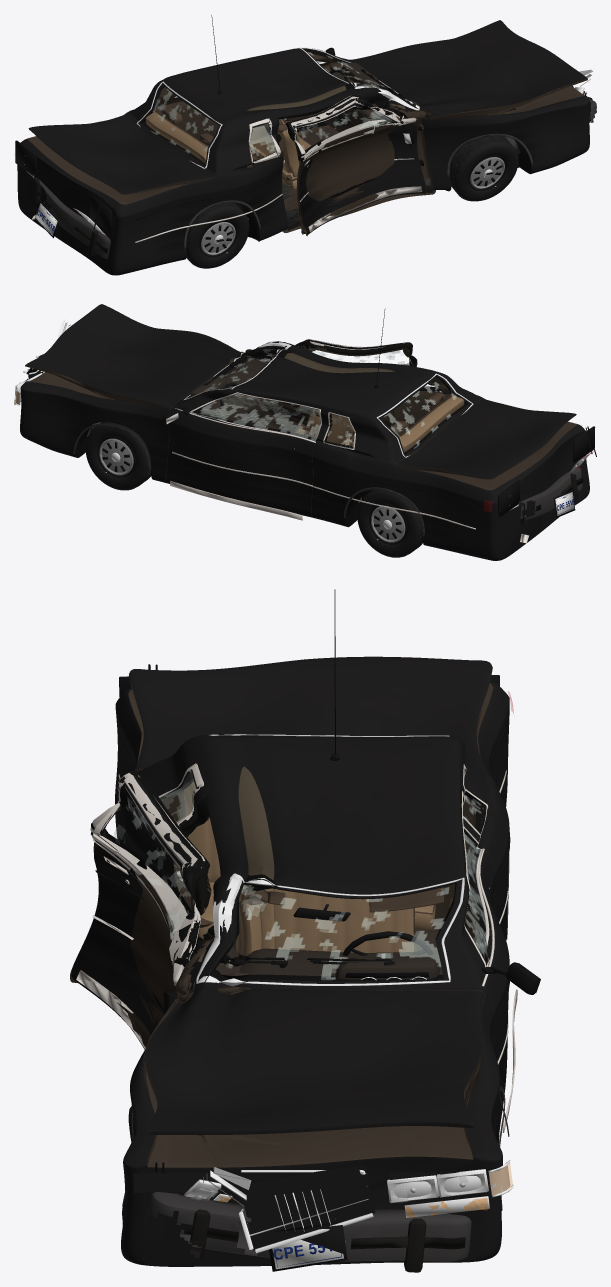
File: coupe84_side_R_d2_lod1.glb
The picture shows the model from 3 angles, top to bottom: view 1: azimuth 30°, elevation 25°; view 2: azimuth 150°, elevation 25°; view 3: azimuth 270°, elevation 25°; orthographic projection. The views are drawn at different scales.
Parts seen in each view (by area): view 1: Body, Hood, Door_FR, Trunk, Interior, Wheel_FR_mesh, Wheel_RR_mesh, Trim_FR, Glass, Trim, Ends, Bumper_R (+3 smaller); view 2: Body, Hood, Door_FL, Trunk, Interior, Wheel_RL_mesh, Wheel_FL_mesh, Glass_FL, Trim_FL, Ends, Trim, Glass (+4 smaller); view 3: Body, Hood, Trunk, Ends, Interior, Door_FR, Bumper_F, Glass, Trim_FR, Door_FL, Trim, Trim_FL (+2 smaller).
Boxes of the visible parts, bbox=[...] form: Body: bbox=[17, 48, 589, 275]; Hood: bbox=[352, 20, 587, 119]; Door_FR: bbox=[286, 95, 427, 236]; Trunk: bbox=[28, 114, 213, 194]; Interior: bbox=[145, 62, 407, 190]; Wheel_FR_mesh: bbox=[450, 136, 518, 201]; Wheel_RR_mesh: bbox=[186, 202, 249, 268]; Trim_FR: bbox=[291, 96, 422, 231]; Glass: bbox=[136, 47, 419, 168]; Trim: bbox=[135, 15, 533, 250]; Ends: bbox=[15, 69, 593, 238]; Bumper_R: bbox=[29, 177, 110, 259]; Body: bbox=[20, 341, 589, 560]; Hood: bbox=[25, 304, 243, 410]; Door_FL: bbox=[166, 392, 322, 517]; Trunk: bbox=[395, 398, 576, 479]; Interior: bbox=[190, 358, 464, 452]; Wheel_RL_mesh: bbox=[357, 490, 422, 557]; Wheel_FL_mesh: bbox=[85, 422, 151, 490]; Glass_FL: bbox=[193, 392, 322, 442]; Trim_FL: bbox=[162, 392, 321, 520]; Ends: bbox=[14, 319, 596, 517]; Trim: bbox=[73, 308, 475, 536]; Glass: bbox=[183, 341, 473, 457]; Body: bbox=[115, 681, 509, 1266]; Hood: bbox=[145, 985, 485, 1135]; Trunk: bbox=[129, 656, 492, 773]; Ends: bbox=[119, 664, 513, 1271]; Interior: bbox=[181, 781, 443, 980]; Door_FR: bbox=[70, 771, 211, 1049]; Bumper_F: bbox=[144, 1192, 471, 1272]; Glass: bbox=[160, 734, 487, 986]; Trim_FR: bbox=[76, 773, 204, 1049]; Door_FL: bbox=[461, 790, 509, 1126]; Trim: bbox=[118, 589, 510, 1210]; Trim_FL: bbox=[448, 791, 540, 1132].
Bounding box in the file's own units: 5.35 × 2.05 × 2.07.
34 materials, 5 textured.
